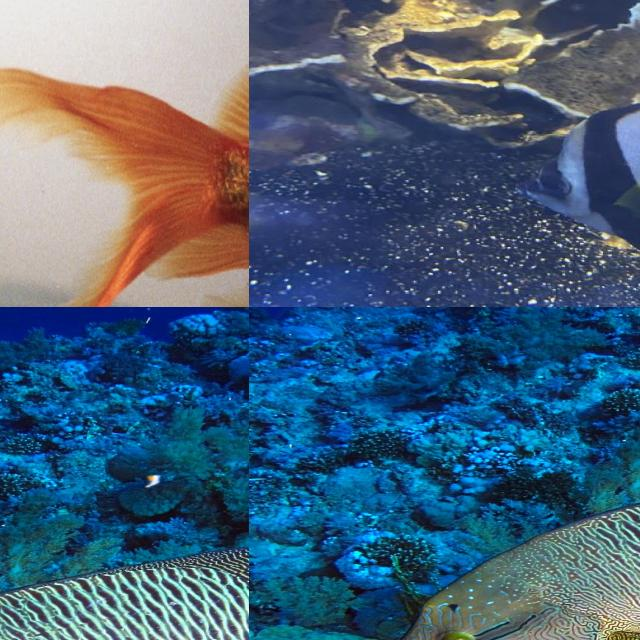fish: (0, 307, 249, 640), (0, 0, 249, 307), (436, 307, 640, 640), (510, 84, 640, 282)
